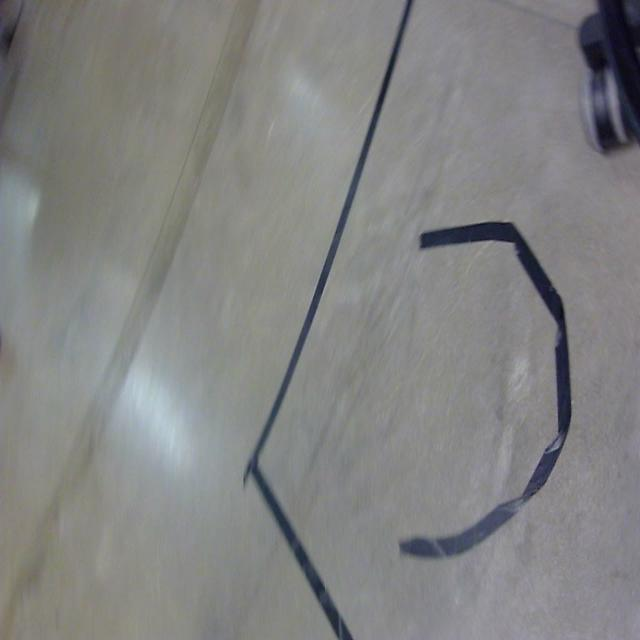tape: (244, 0, 418, 487), (246, 140, 368, 640), (399, 222, 574, 562)
